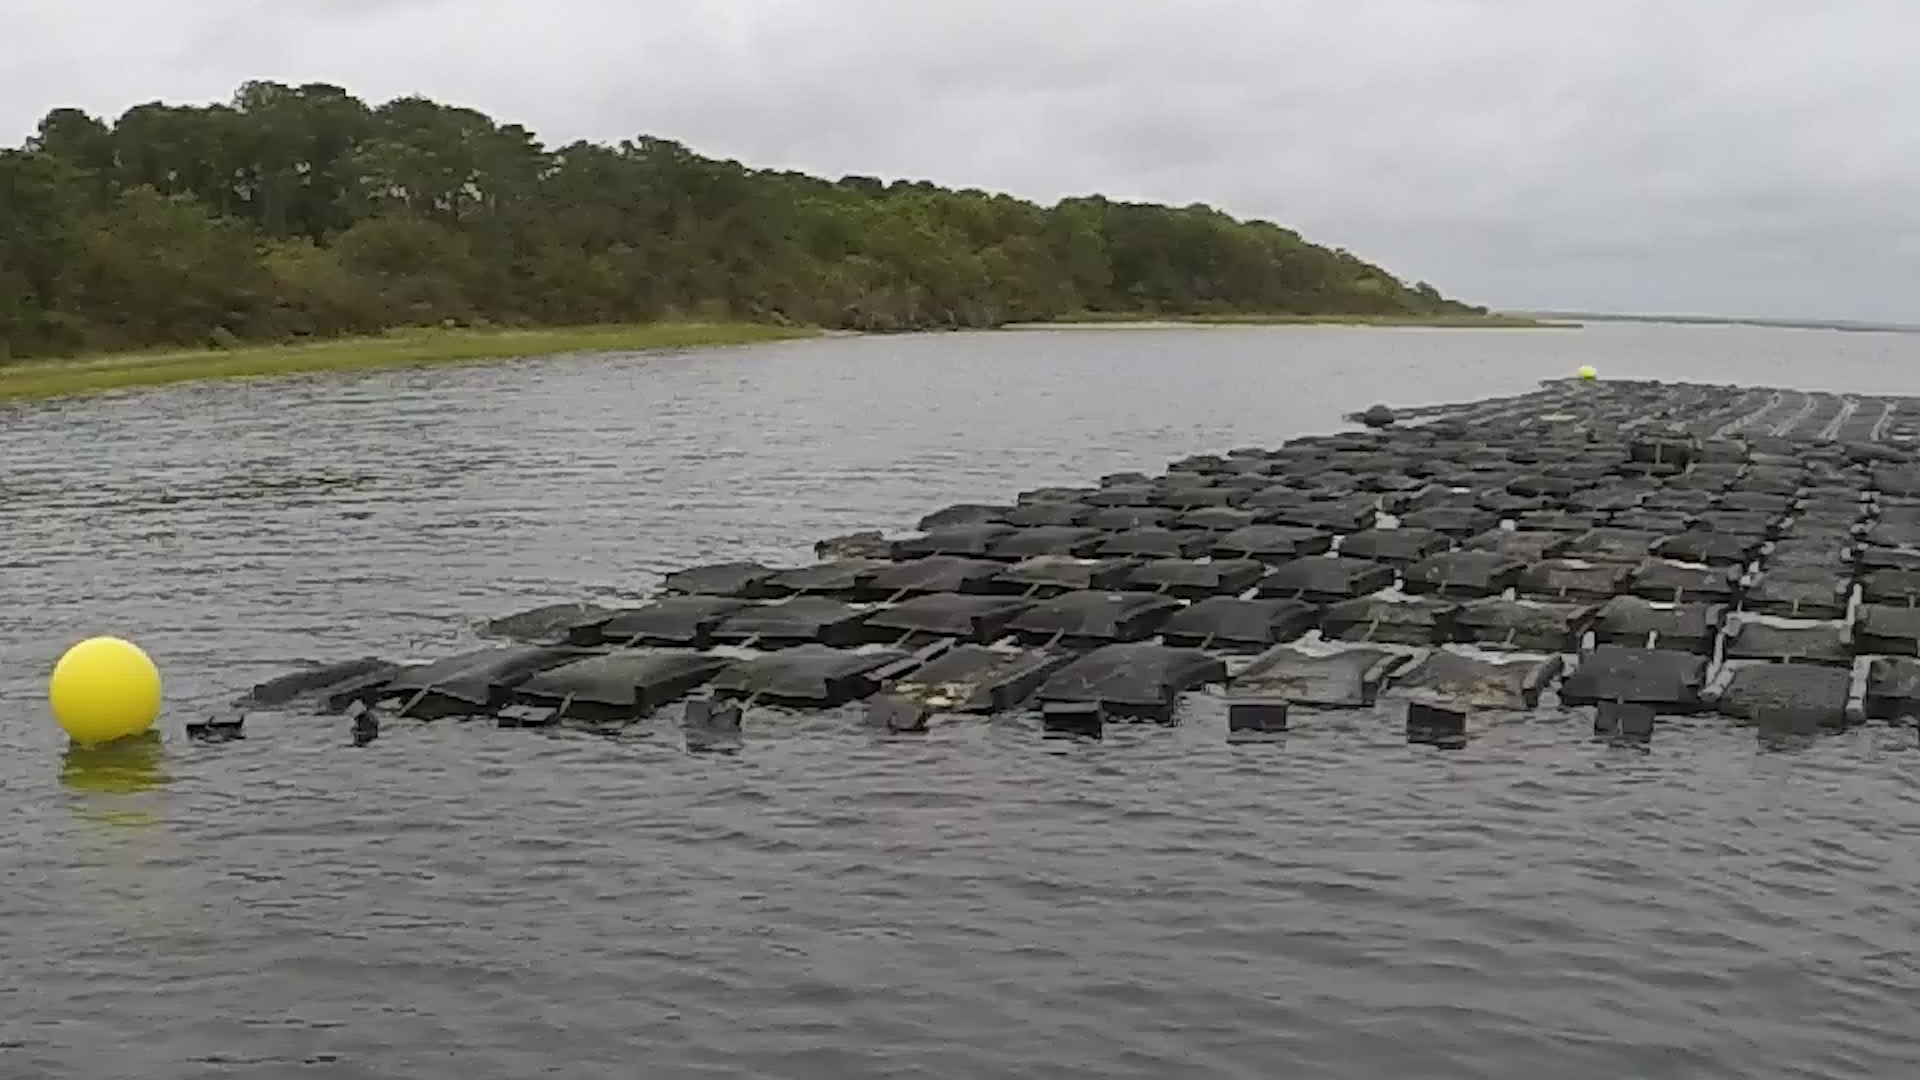bag: (694, 633, 897, 716), (1014, 646, 1233, 721), (1551, 647, 1714, 712)
